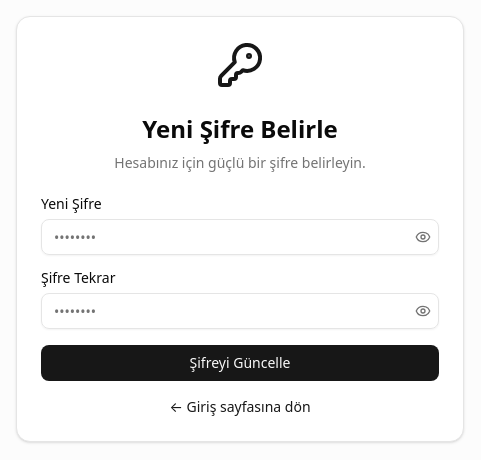
Scenario: ResetPassword sayfası › geçerli form submit edildiğinde reset mutation çağrılmalı
Type "NewPassword1" into the password field labelled "Yeni Şifre" at (240, 237), box [41,219,439,255]
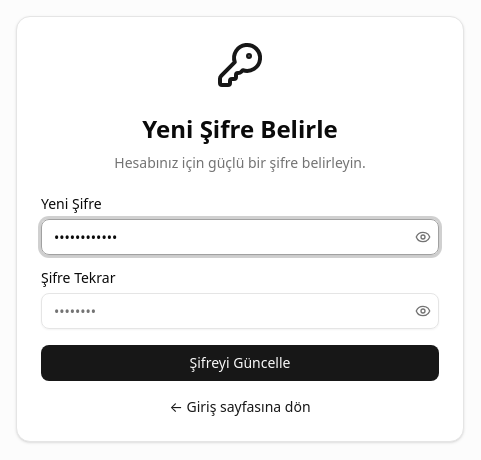
Type "NewPassword1" into the password field labelled "Şifre Tekrar" at (240, 311), box [41,293,439,329]
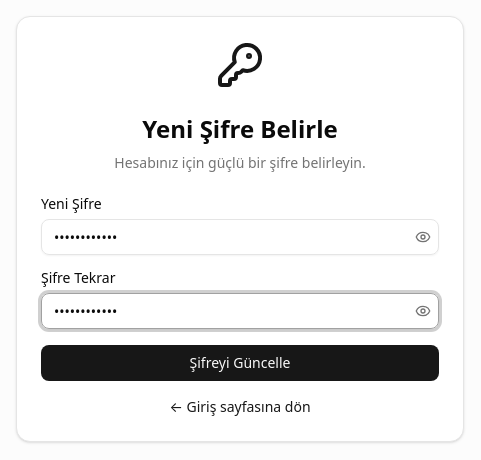
Click the button "Şifreyi Güncelle" at (240, 363), box [41,345,439,381]
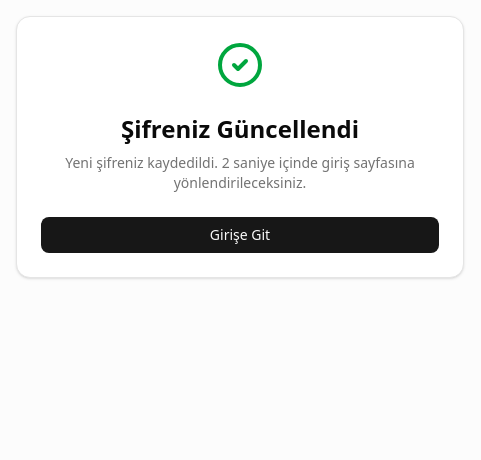
Expected: the text "Şifreniz Güncellendi" is shown, [121,112,359,145]
